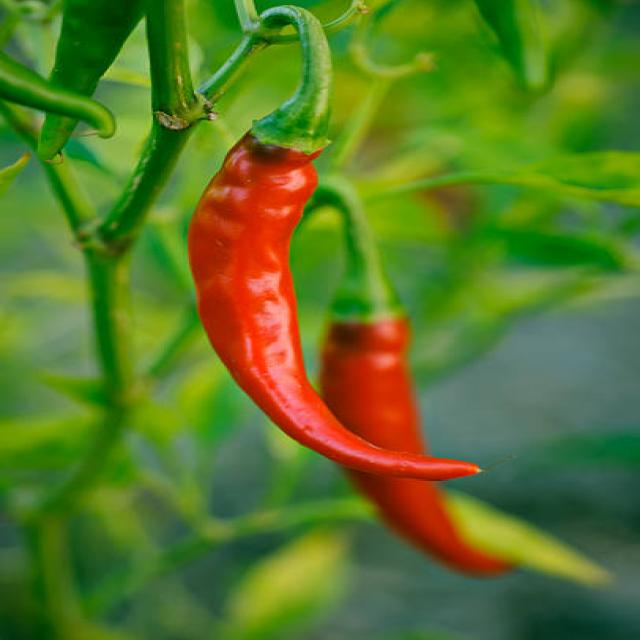Ripe: (188, 133, 478, 483)
